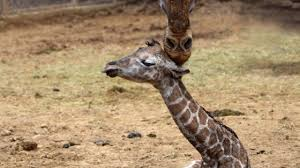Jirafa: (82, 31, 232, 145)
